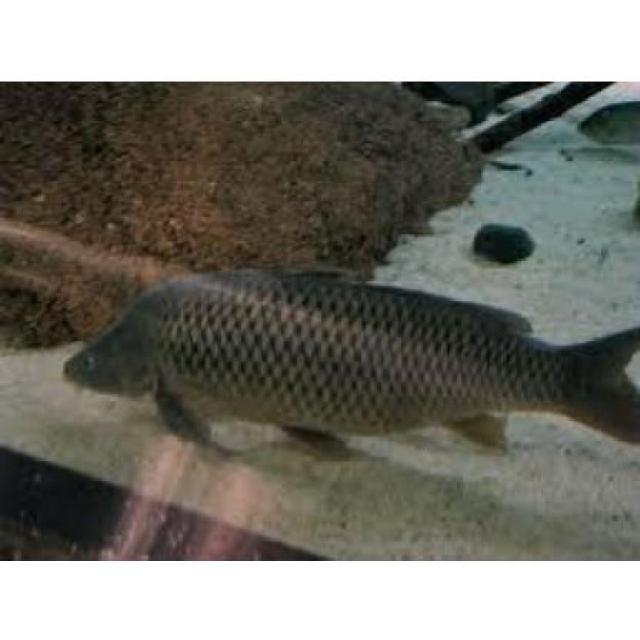ikan-mas: (59, 263, 639, 457)
